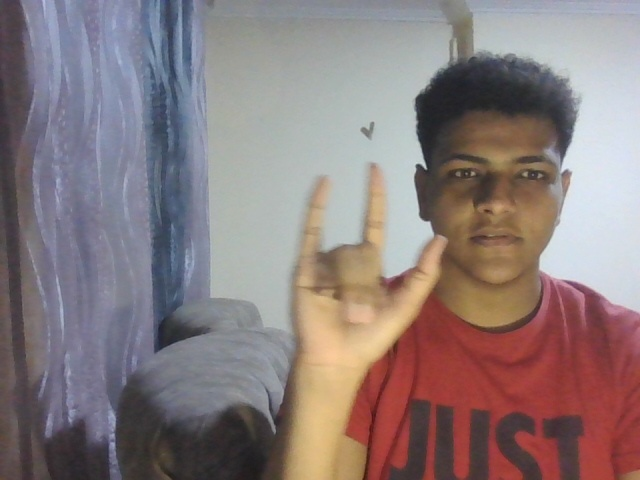iloveyou: (282, 161, 454, 365)
